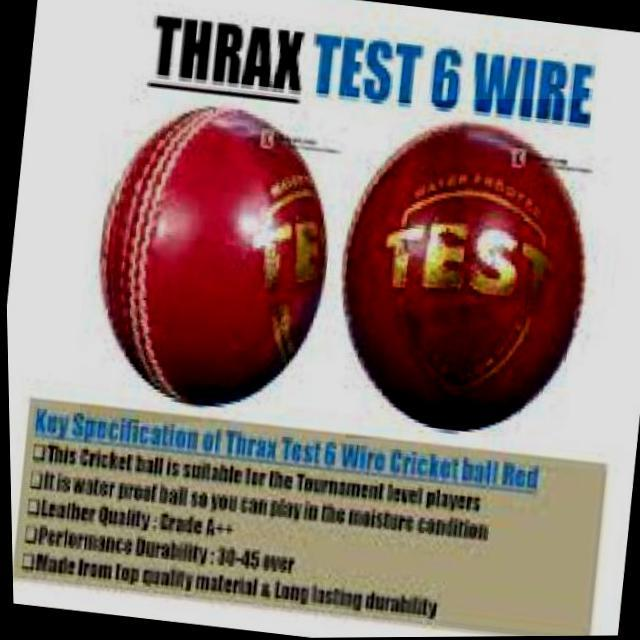-: (338, 100, 600, 439), (72, 91, 338, 424)
